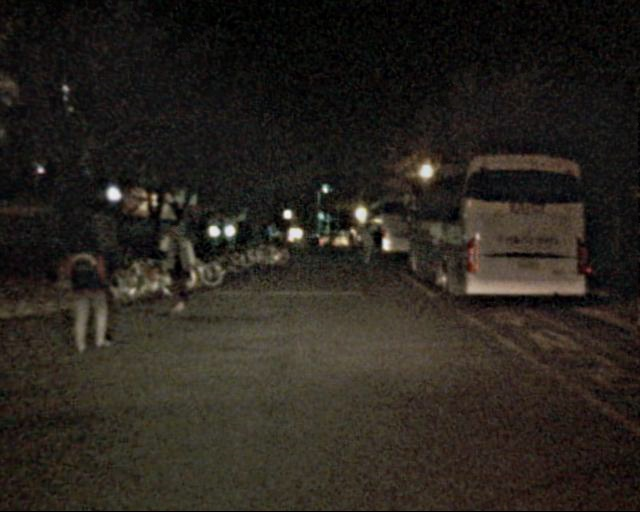person: (66, 221, 121, 351), (158, 221, 197, 317), (357, 228, 382, 267)
